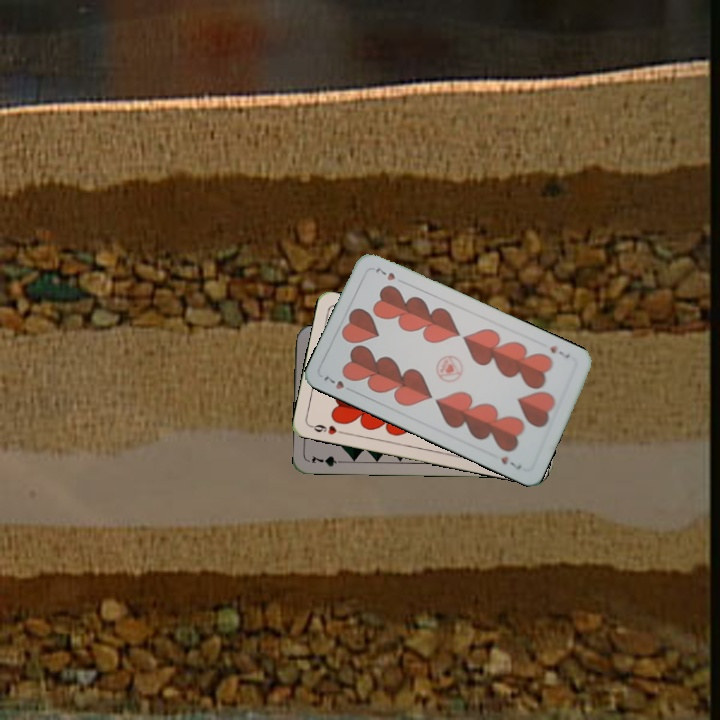G7: (307, 452, 348, 469)
H7: (320, 371, 357, 395), (546, 341, 572, 361)
H9: (307, 420, 347, 437)
